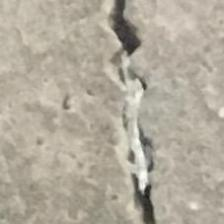Crack: (77, 0, 204, 224)
